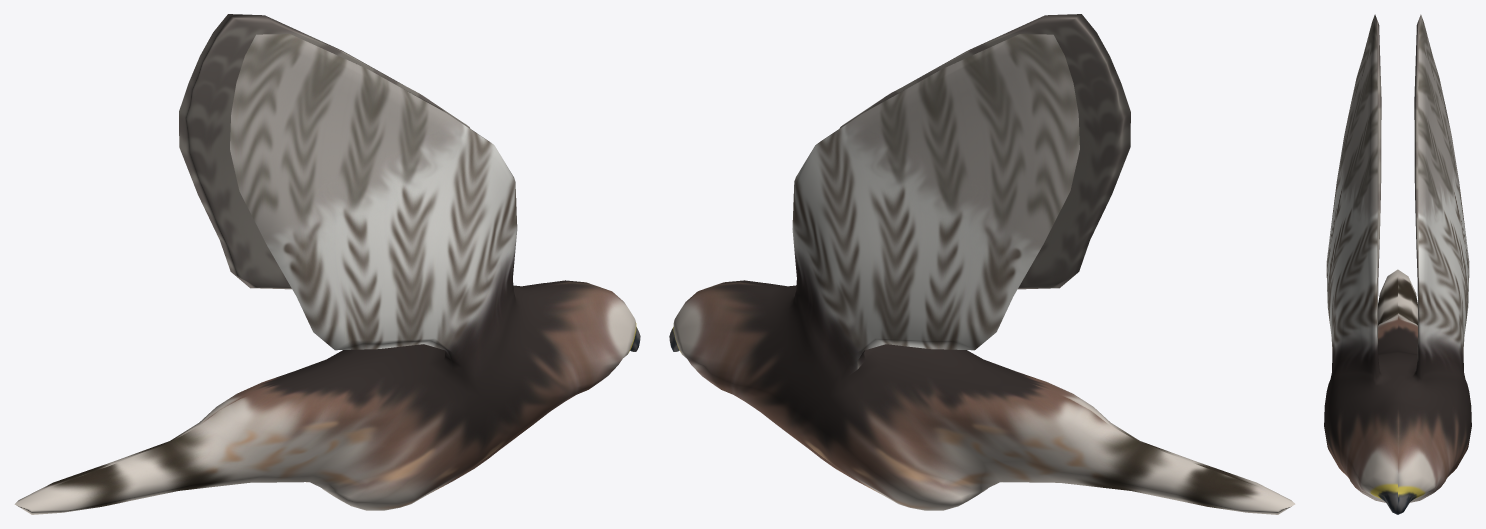
File: hawkBody.fbx
3 renders of one model, left to right at view 1: azimuth 30°, elevation 25°; view 2: azimuth 150°, elevation 25°; view 3: azimuth 270°, elevation 25°, orthographic. The views are drawn at different scales.
Visible parts, largest first — view 1: pSphere3; view 2: pSphere3; view 3: pSphere3.
Boxes of the visible parts, x1,y1,x2,y2 form: pSphere3: (14,14,640,514); pSphere3: (669,14,1295,514); pSphere3: (1324,14,1471,514).
Bounding box in the file's own units: 2.68 × 2.04 × 0.6724.
